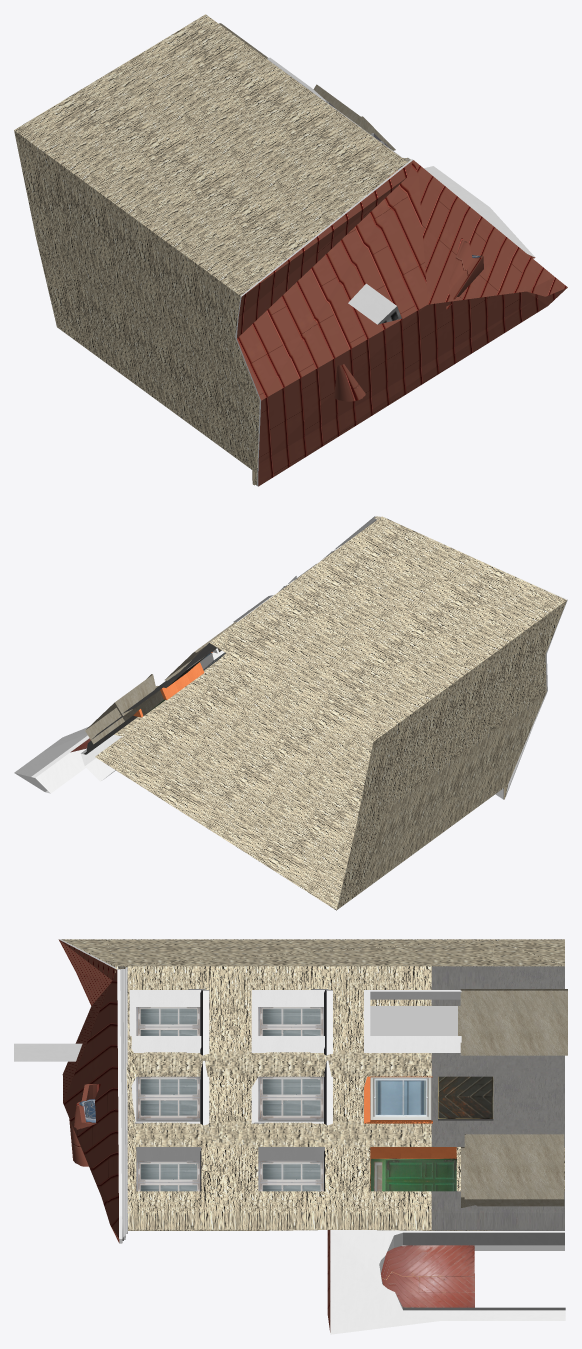
Rendered from Voorimehe_5-origo.obj.
3 renders of one model, top to bottom at view 1: azimuth 30°, elevation 25°; view 2: azimuth 150°, elevation 25°; view 3: azimuth 270°, elevation 25°, orthographic. The views are drawn at different scales.
Parts seen in each view (by area): view 1: Voorimehe_5; view 2: Voorimehe_5; view 3: Voorimehe_5.
Part boxes in pixels (bbox=[...]): Voorimehe_5: bbox=[14, 14, 567, 486]; Voorimehe_5: bbox=[14, 515, 567, 910]; Voorimehe_5: bbox=[14, 939, 567, 1334].
Bounding box in the file's own units: 15.88 × 10.5 × 16.31.
